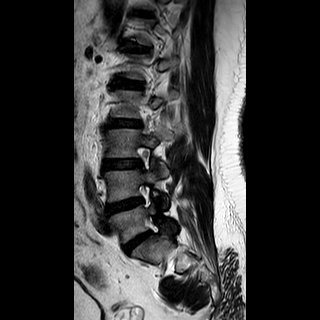LFS0: (129, 139, 154, 174), (133, 175, 157, 211), (139, 212, 164, 244)
